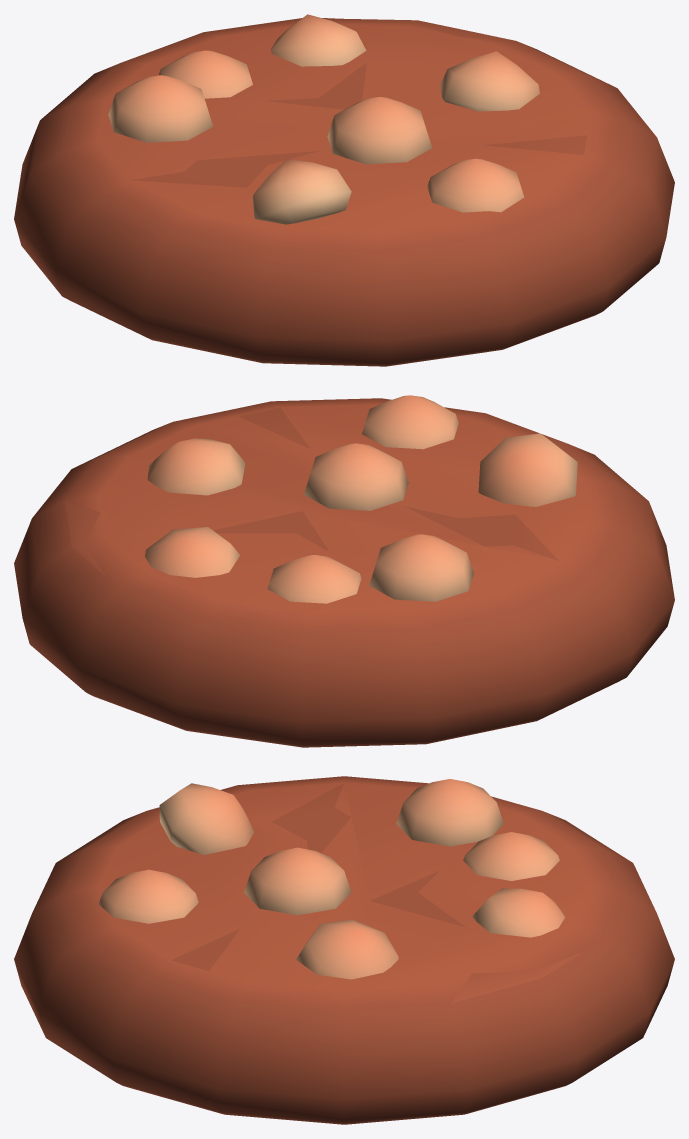
File: Cookie_V1_03.fbx
The picture shows the model from 3 angles, top to bottom: view 1: azimuth 30°, elevation 25°; view 2: azimuth 150°, elevation 25°; view 3: azimuth 270°, elevation 25°; orthographic projection.
Visible parts, largest first — view 1: Cookie_V1_03; view 2: Cookie_V1_03; view 3: Cookie_V1_03.
Boxes of the visible parts, x1,y1,x2,y2 form: Cookie_V1_03: [14, 14, 674, 366]; Cookie_V1_03: [14, 395, 674, 747]; Cookie_V1_03: [14, 776, 674, 1124].
Bounding box in the file's own units: 31.75 × 8.24 × 31.75.
